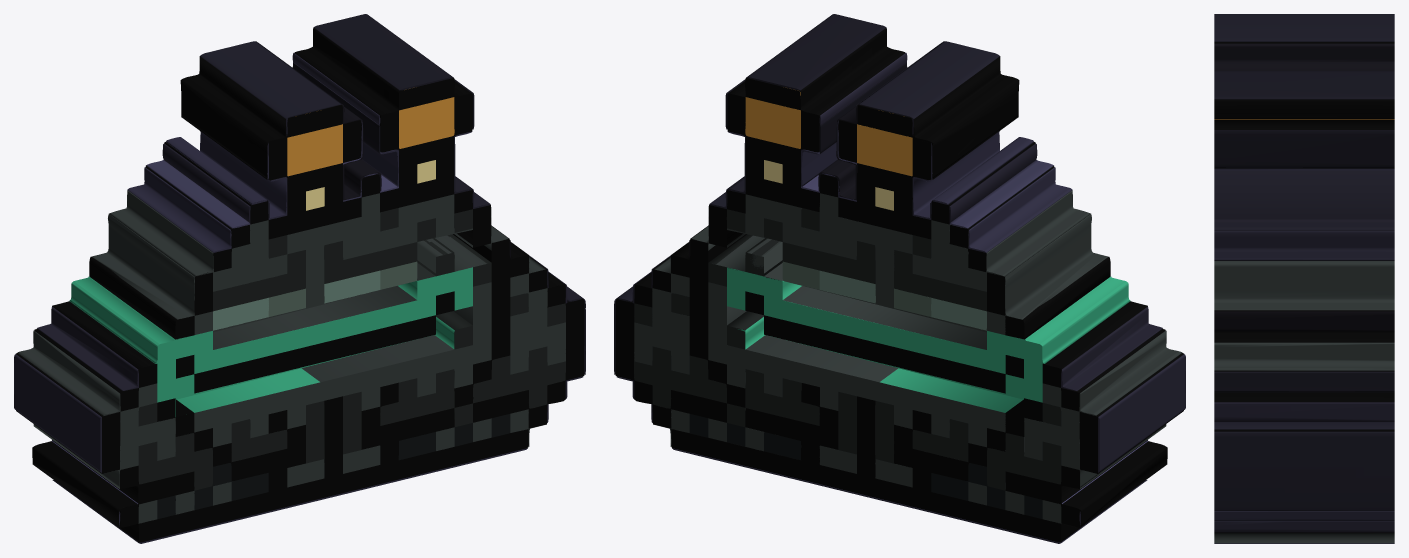
Rendered from Toadz_3898.glb.
3 renders of one model, left to right at view 1: azimuth 30°, elevation 25°; view 2: azimuth 150°, elevation 25°; view 3: azimuth 270°, elevation 25°, orthographic. The views are drawn at different scales.
Visible parts, largest first — view 1: Curve; view 2: Curve; view 3: Curve.
Boxes of the visible parts, x1=… form: Curve: x1=14, y1=14, x2=585, y2=543; Curve: x1=614, y1=14, x2=1185, y2=543; Curve: x1=1214, y1=14, x2=1394, y2=543.
Bounding box in the file's own units: 3.25 × 2.51 × 1.
